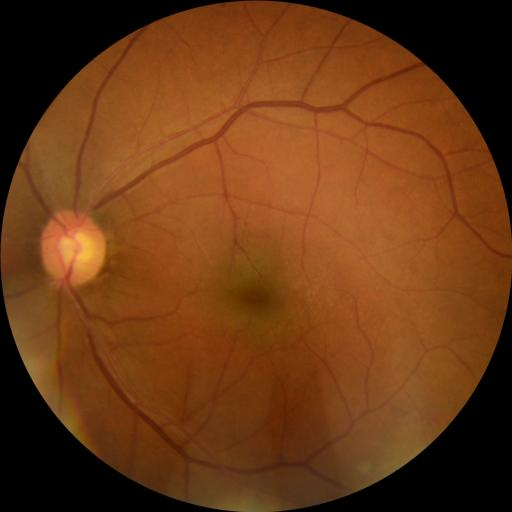Optic Cup: (58, 230, 93, 265)
Optic Disc: (41, 210, 106, 286)
